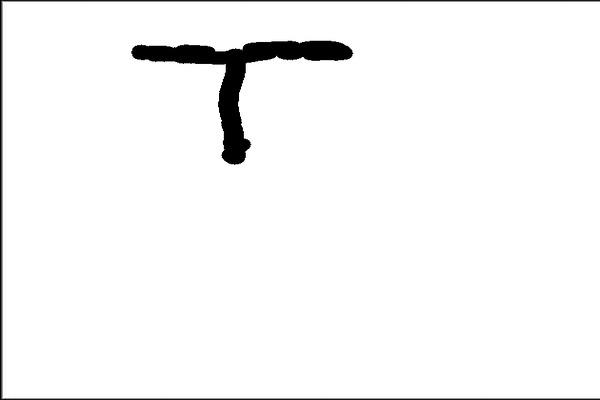T: (128, 32, 357, 166)
